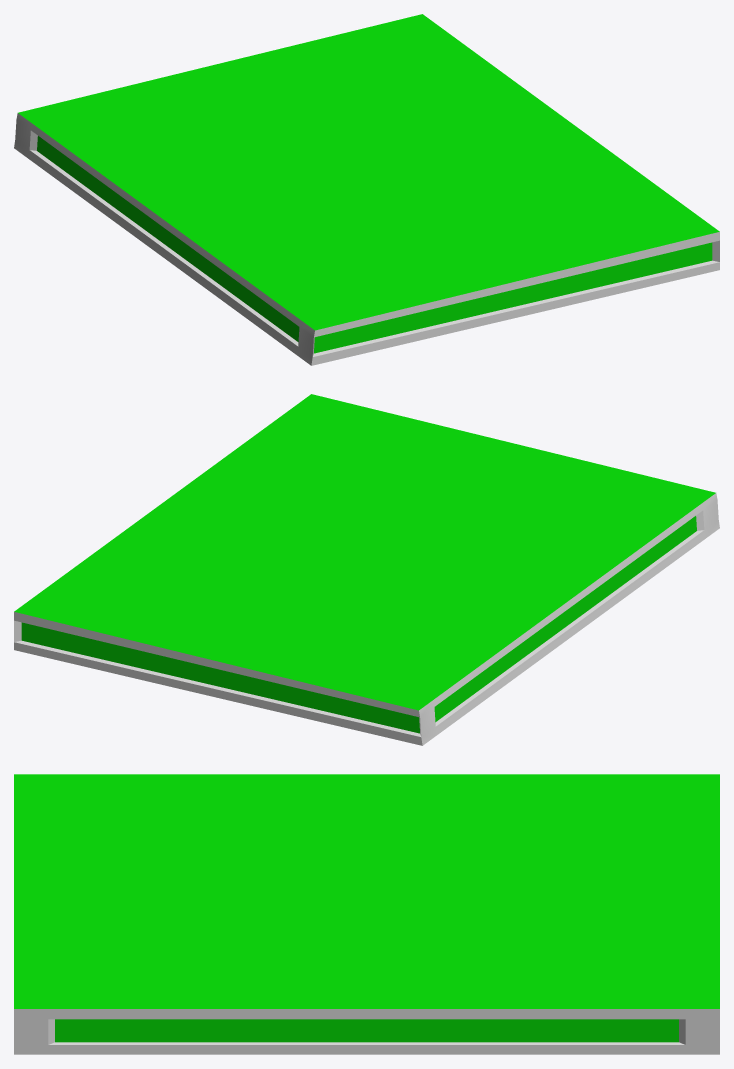
File: Green platform.fbx
The picture shows the model from 3 angles, top to bottom: view 1: azimuth 30°, elevation 25°; view 2: azimuth 150°, elevation 25°; view 3: azimuth 270°, elevation 25°; orthographic projection. The views are drawn at different scales.
Parts seen in each view (by area): view 1: pCube13; view 2: pCube13; view 3: pCube13.
Part boxes in pixels (x1,y1,x2,y2): pCube13: [14, 14, 719, 365]; pCube13: [14, 394, 719, 745]; pCube13: [14, 774, 719, 1054].
Size of the model in its own units: 4.19 by 0.3754 by 5.28.
